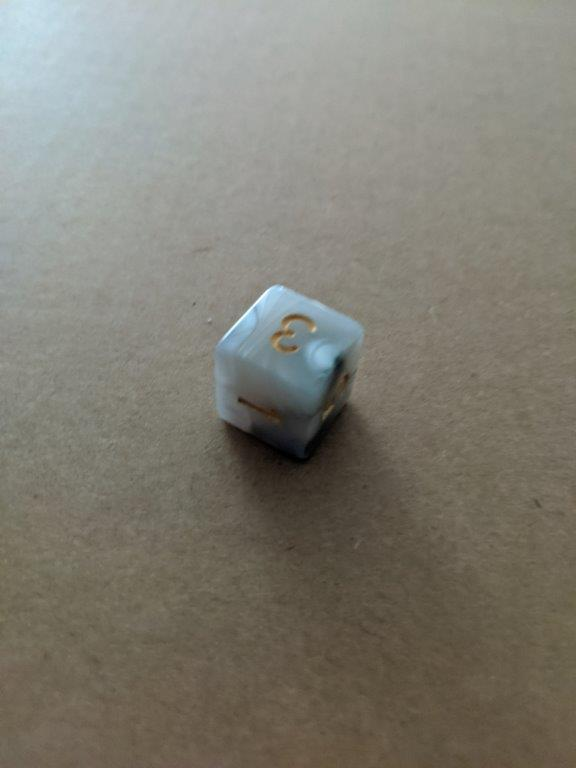d6-3: (214, 285, 364, 463)
